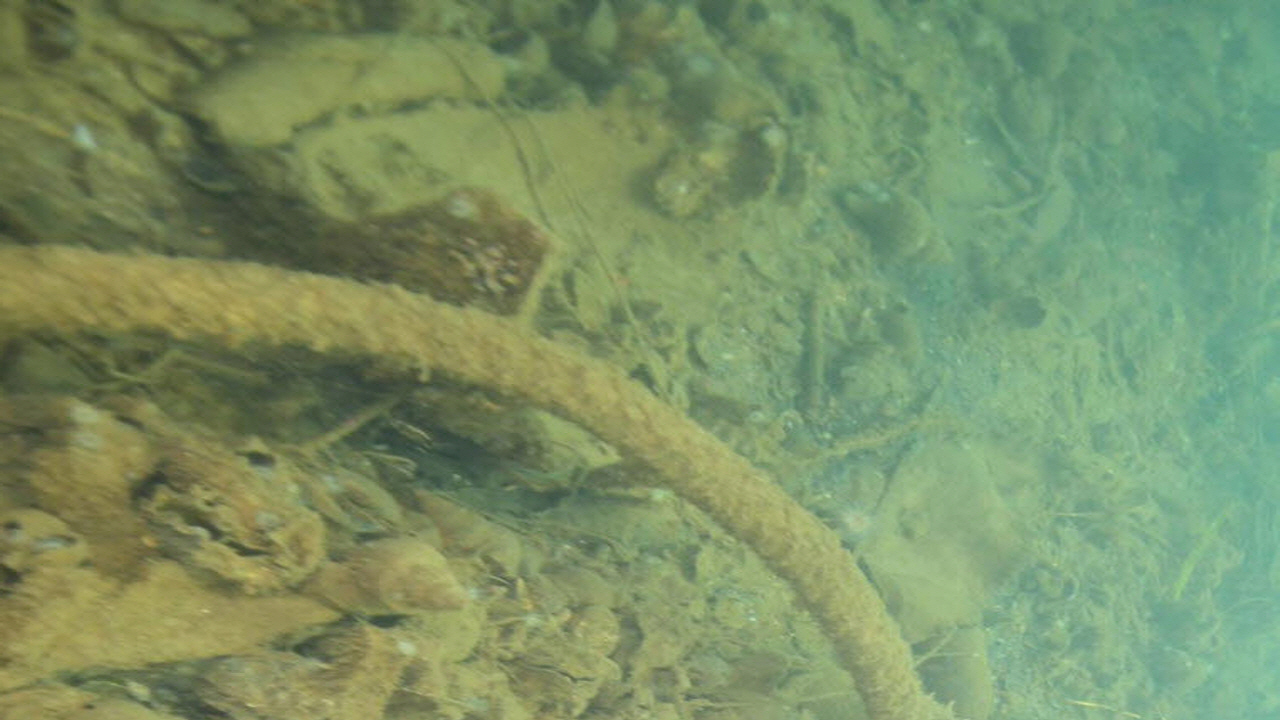rope: (0, 239, 930, 720)
